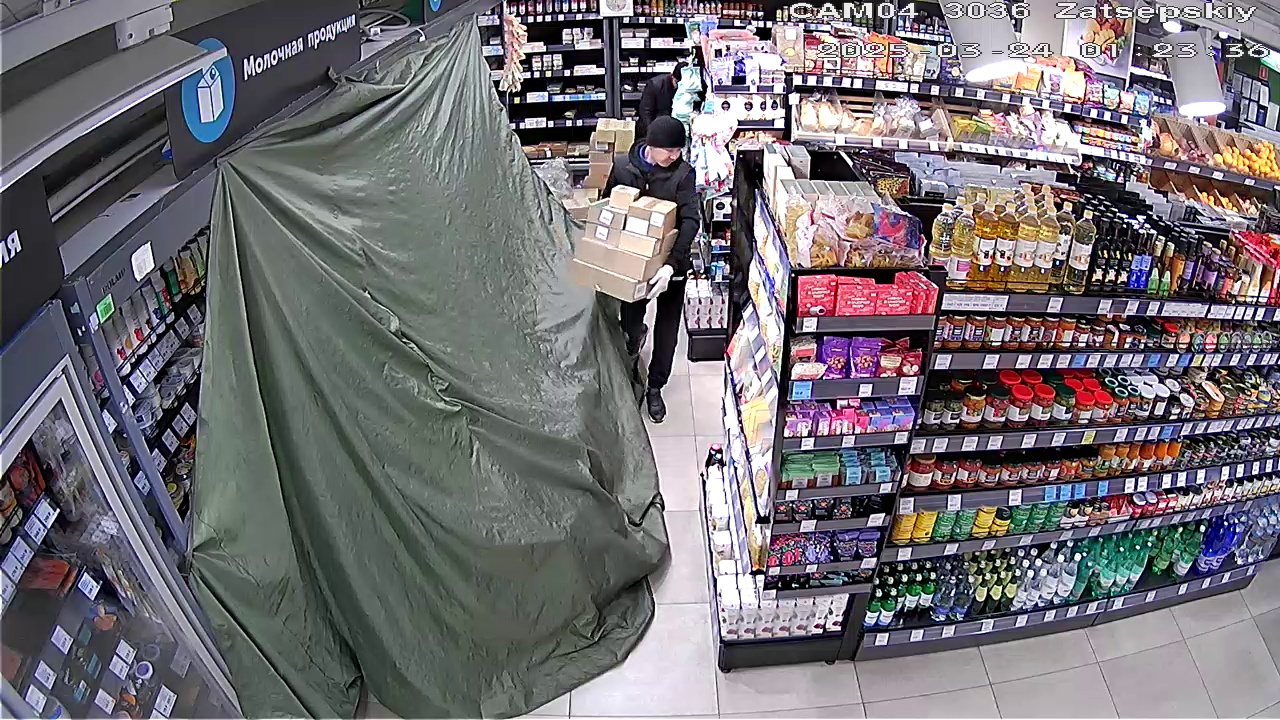Human: (596, 118, 694, 412)
dome: (209, 24, 665, 719)
